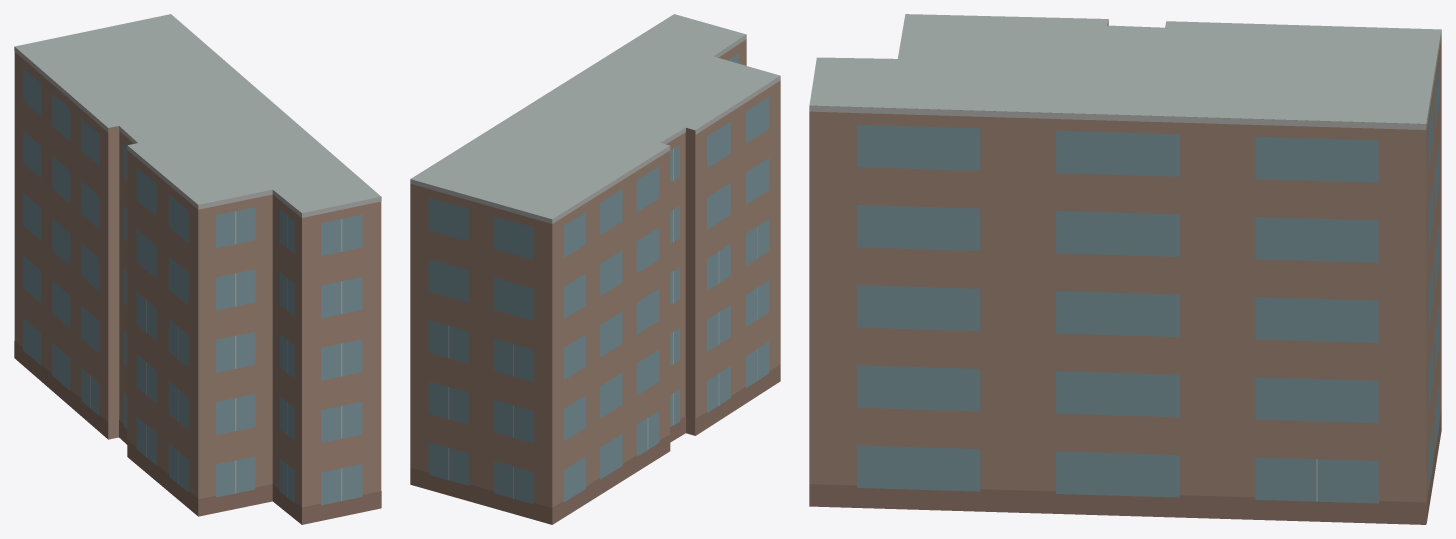
Rendered from survey-upis-32657656.glb.
The picture shows the model from 3 angles, left to right: view 1: azimuth 30°, elevation 25°; view 2: azimuth 150°, elevation 25°; view 3: azimuth 270°, elevation 25°; orthographic projection. The views are drawn at different scales.
Visible parts, largest first — view 1: survey-upis-32657656.tmp; view 2: survey-upis-32657656.tmp; view 3: survey-upis-32657656.tmp.
Part boxes in pixels (x1,y1,x2,y2): survey-upis-32657656.tmp: [14, 14, 381, 524]; survey-upis-32657656.tmp: [410, 14, 780, 524]; survey-upis-32657656.tmp: [809, 14, 1441, 524].
Bounding box in the file's own units: 9.48 × 16.1 × 23.02.
